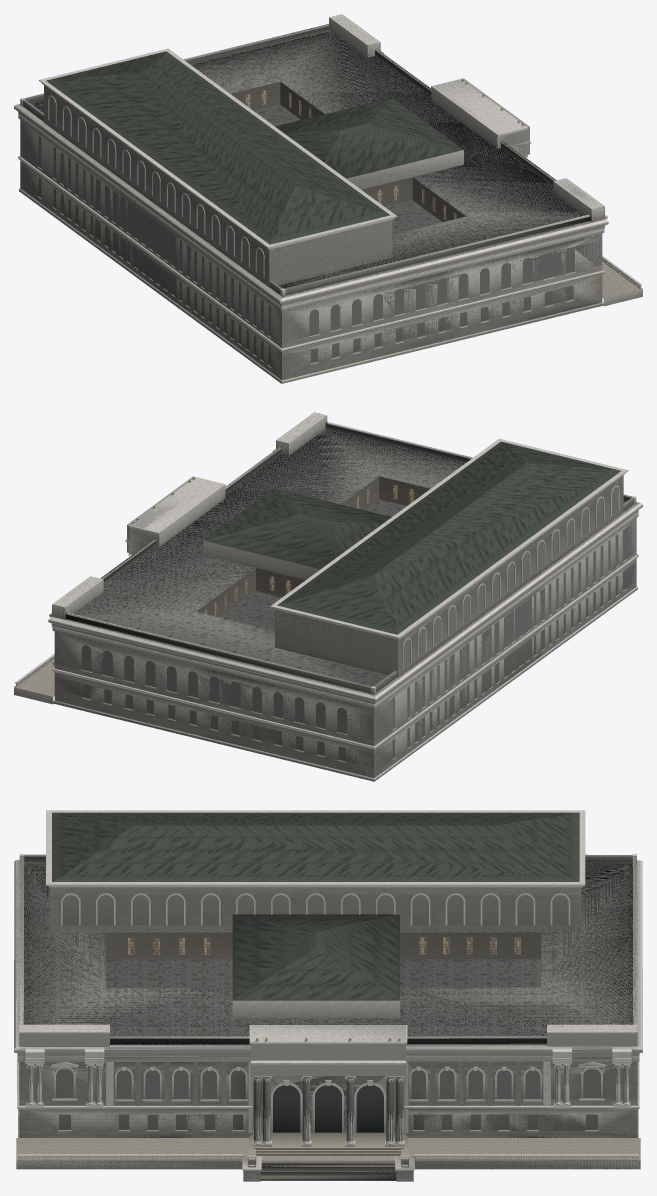
File: library_front.glb
3 renders of one model, top to bottom at view 1: azimuth 30°, elevation 25°; view 2: azimuth 150°, elevation 25°; view 3: azimuth 270°, elevation 25°, orthographic. The views are drawn at different scales.
Parts seen in each view (by area): view 1: library_front, library_front_far; view 2: library_front, library_front_far; view 3: library_front, library_front_far.
Part boxes in pixels (x1=…): library_front: x1=14, y1=14, x2=642, y2=383; library_front_far: x1=14, y1=14, x2=608, y2=379; library_front: x1=14, y1=412, x2=642, y2=781; library_front_far: x1=48, y1=412, x2=642, y2=776; library_front: x1=14, y1=810, x2=642, y2=1181; library_front_far: x1=14, y1=854, x2=642, y2=1181.
Size of the model in its own units: 95.8 by 35 by 115.
Materials: 7 (6 with a texture image).
